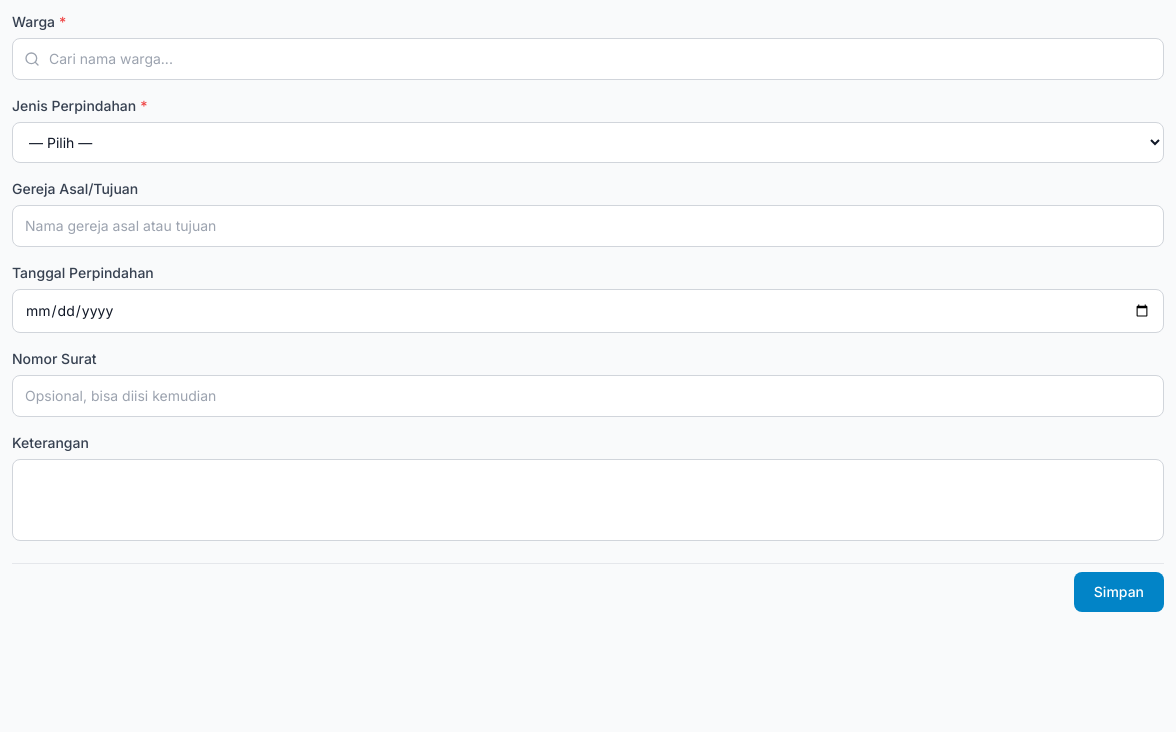
Test case: PerpindahanForm › submit tanpa pilih warga menampilkan error validasi, mutation tidak terpanggil
Click the button "Simpan": (1119, 592) x1=1074 y1=572 x2=1164 y2=612
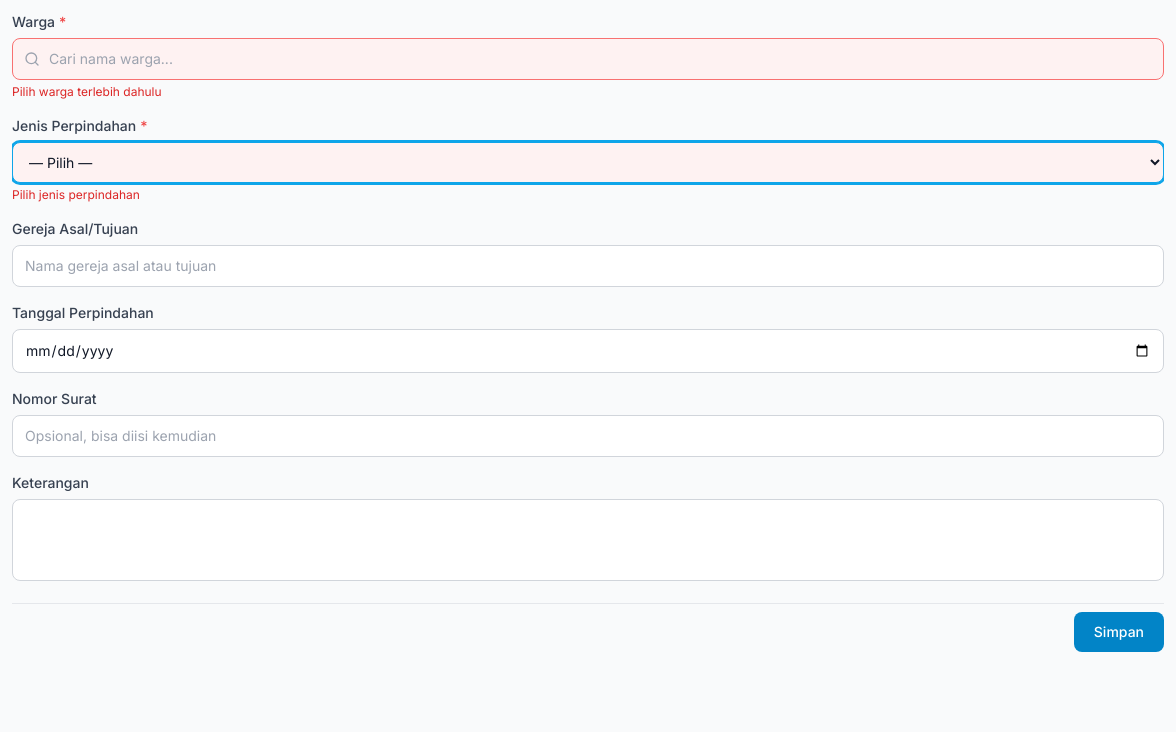
Check: the text "Pilih warga terlebih dahulu" is shown, box x1=12 y1=84 x2=162 y2=99
